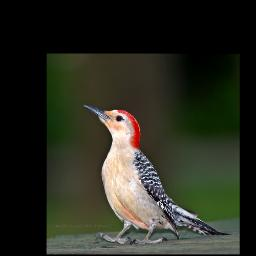Woodpecker: (80, 102, 231, 246)
